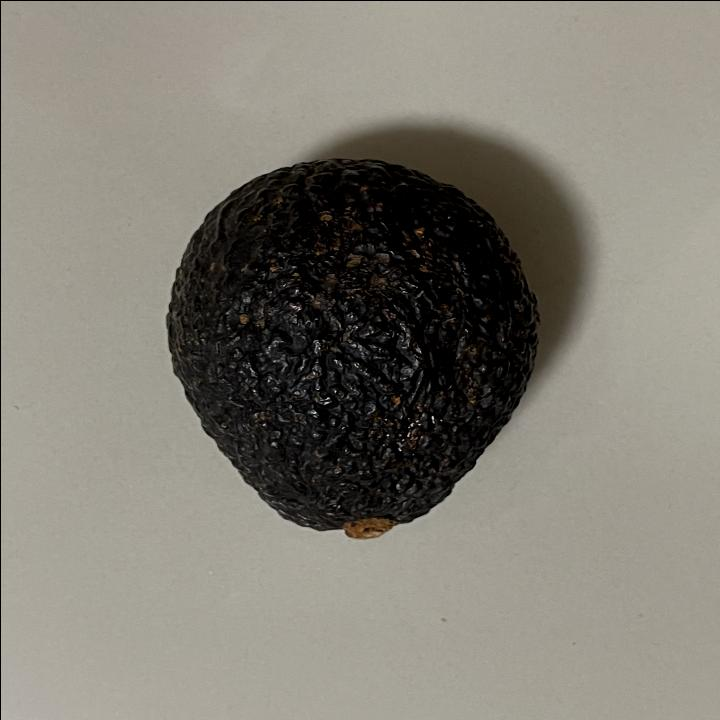Level2: (160, 154, 552, 544)
